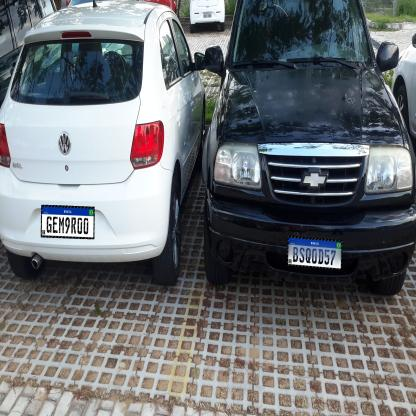PlacaM: (40, 205, 95, 239), (287, 236, 342, 270)
